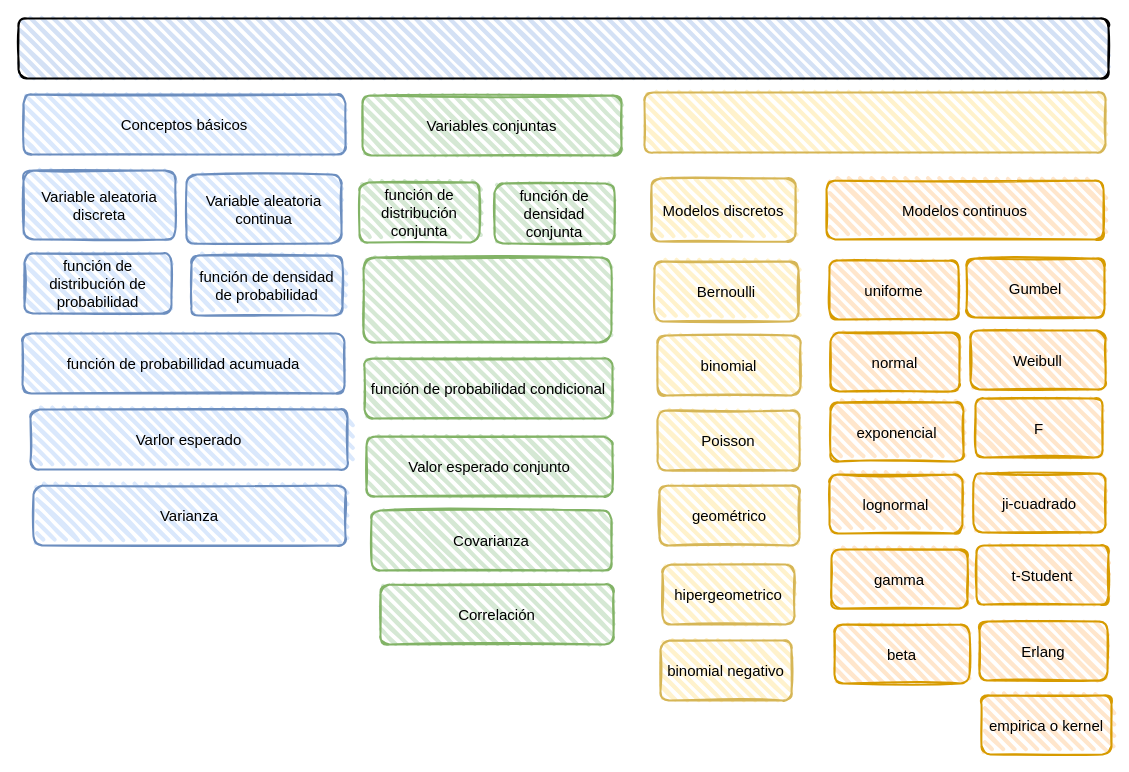
This 1129x772 diagram has some shape labels left out. The shapes that lost their labels are listed below. From the top down, each one's centre as x and y in pixels, then its label:
(563,48): Variable aleatoria
(874,122): Modelos especiales
(487,299): función de probabilidad acumulada conjunta
